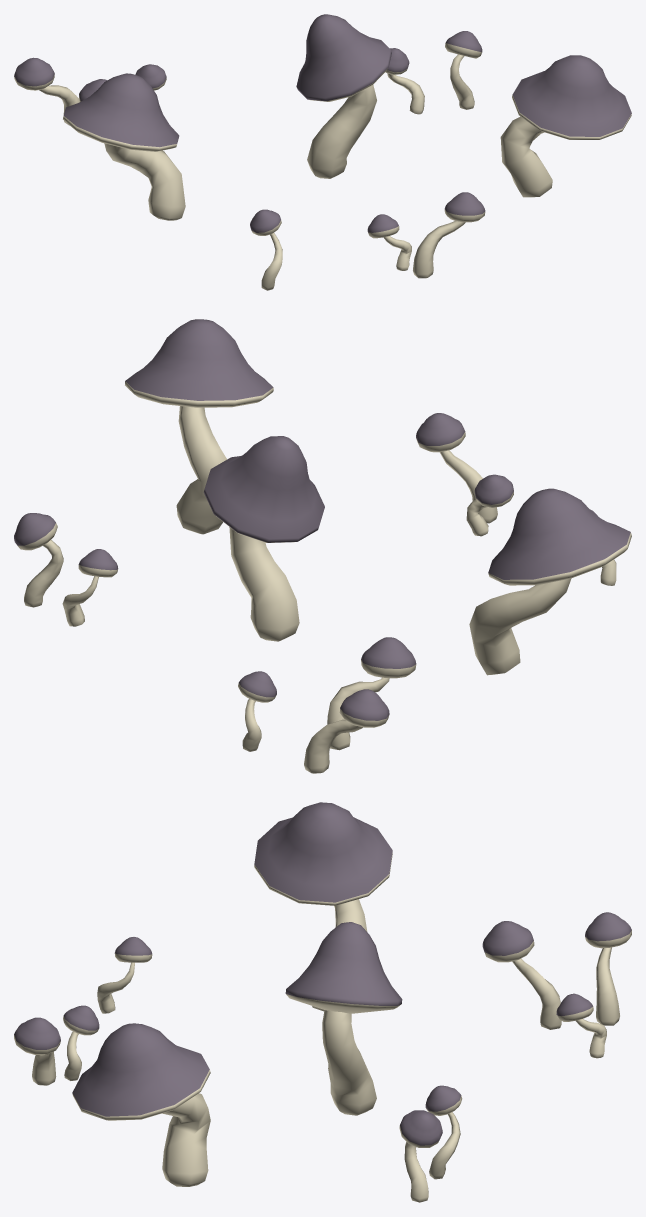
File: P_mushroom_02_LD.fbx
3 renders of one model, top to bottom at view 1: azimuth 30°, elevation 25°; view 2: azimuth 150°, elevation 25°; view 3: azimuth 270°, elevation 25°, orthographic. The views are drawn at different scales.
Visible parts, largest first — view 1: P_mushroom_02; view 2: P_mushroom_02; view 3: P_mushroom_02.
Part boxes in pixels (<box>): P_mushroom_02: <box>14,14,631,290</box>; P_mushroom_02: <box>14,319,631,773</box>; P_mushroom_02: <box>14,802,631,1202</box>.
Bounding box in the file's own units: 163 × 52.82 × 158.
Materials: 1 (1 with a texture image).
